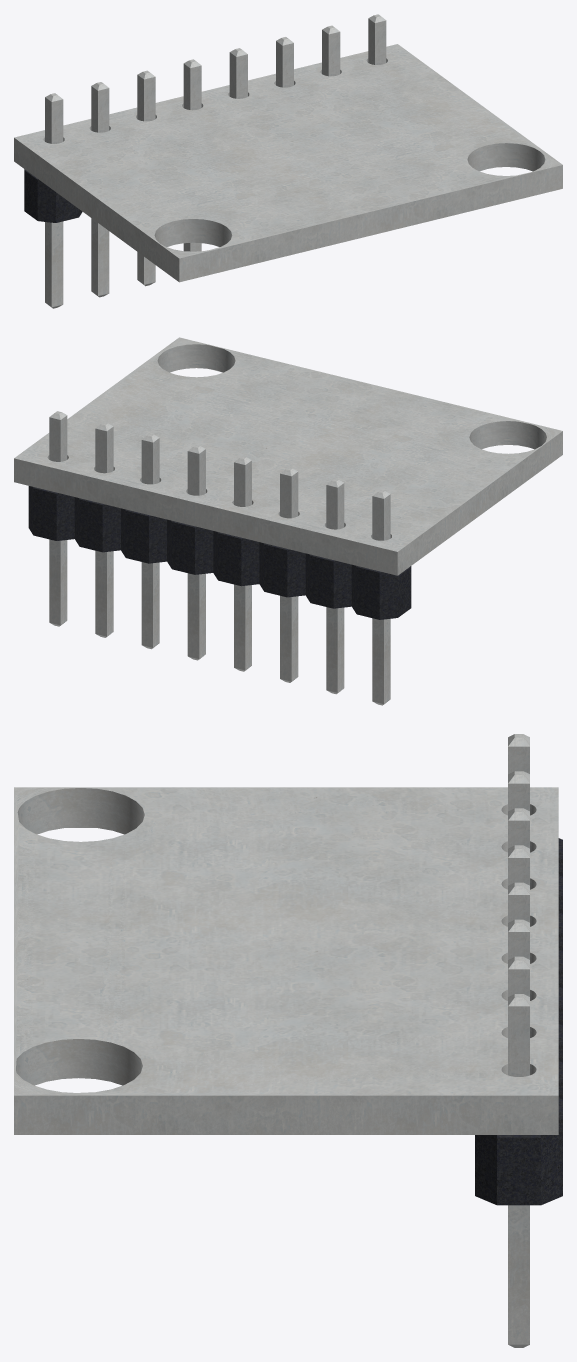
The picture shows the model from 3 angles, top to bottom: view 1: azimuth 30°, elevation 25°; view 2: azimuth 150°, elevation 25°; view 3: azimuth 270°, elevation 25°; orthographic projection. The views are drawn at different scales.
Parts seen in each view (by area): view 1: mp6050; view 2: mp6050; view 3: mp6050.
Boxes of the visible parts, <box> form: mp6050: <box>14,14,562,308</box>; mp6050: <box>14,337,562,705</box>; mp6050: <box>14,734,562,1347</box>.
Size of the model in its own units: 9.08 by 4.81 by 6.83.
